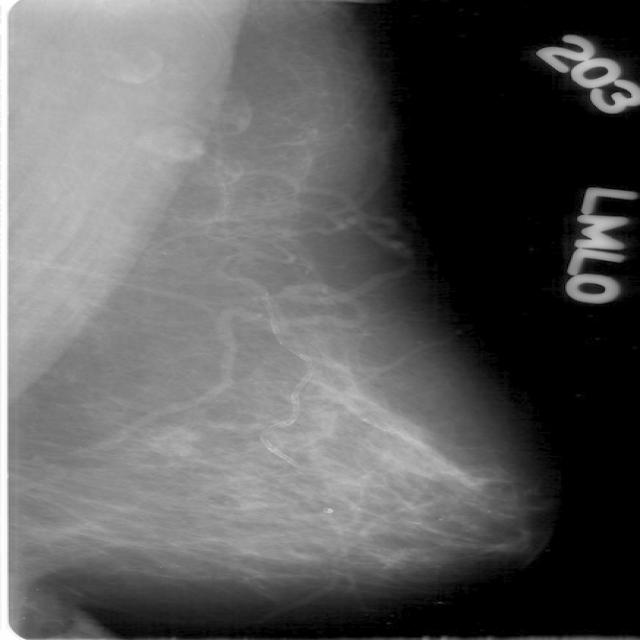tumour: (140, 422, 203, 459)
